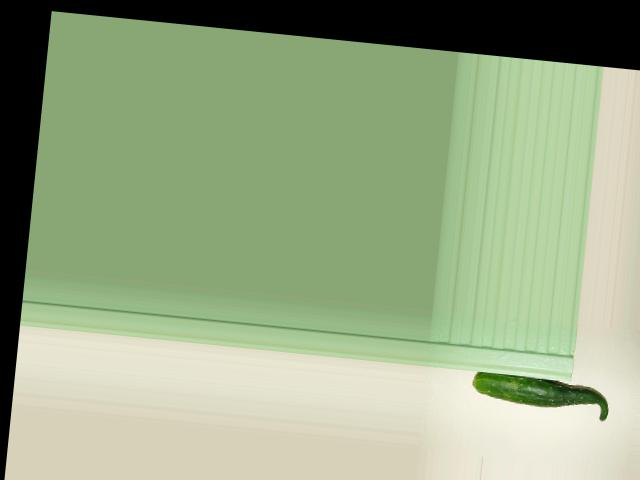cucumber: (470, 371, 611, 421)
